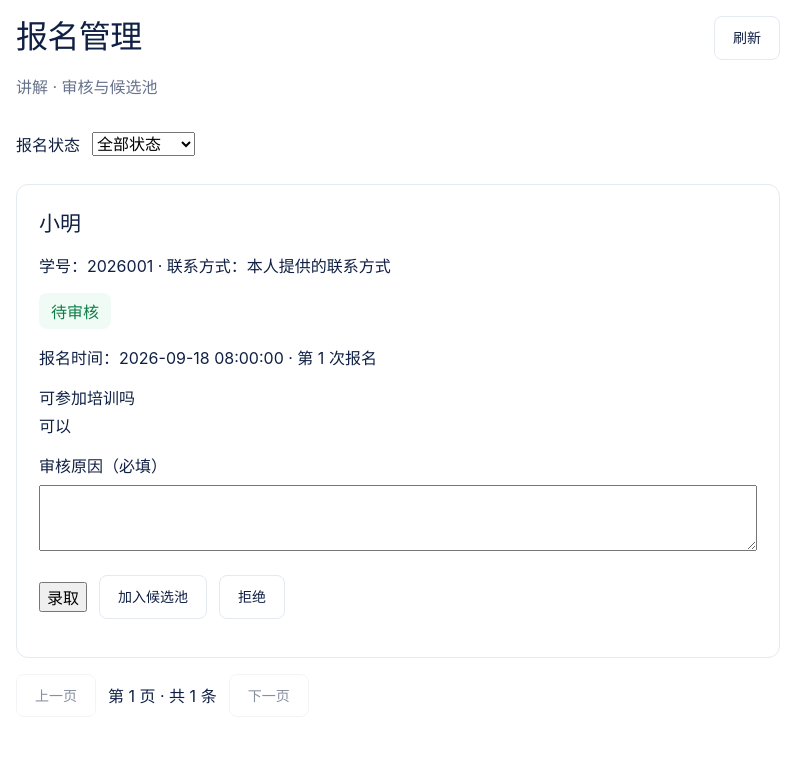
Test case: RegistrationManagementView › requires a trimmed reason and refreshes authoritative state after success
Click the button with test id "confirm" at coordinates (63, 597), box [39,582,87,612]
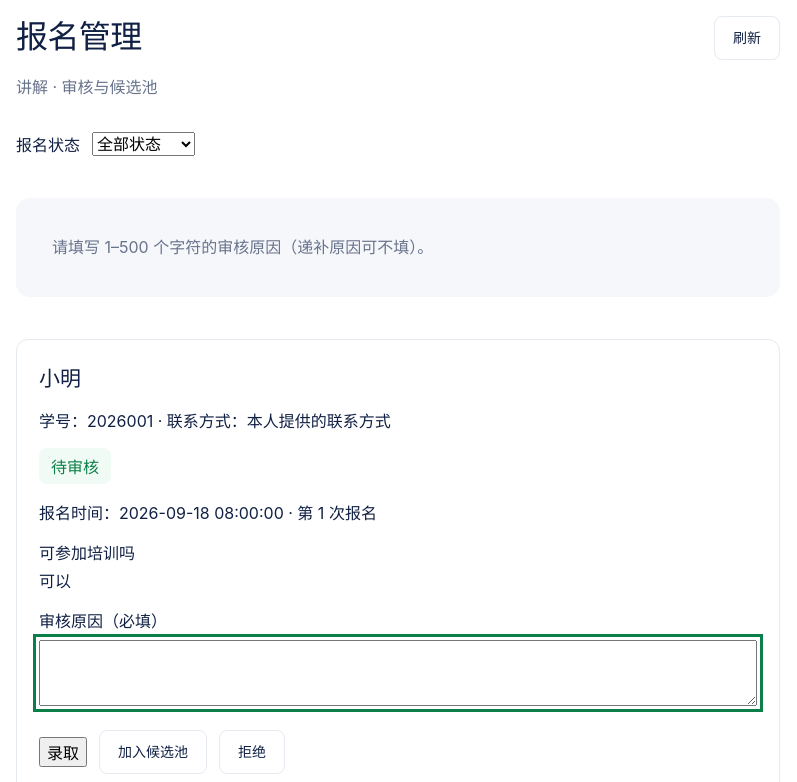
Expected: the message "请填写 1–500 个字符的审核原因（递补原因可不填）。" is shown, [16,198,780,297]
Type "  符合岗位要求  " into the text box labelled "审核原因（必填）" at coordinates (398, 673), box [39,640,757,706]
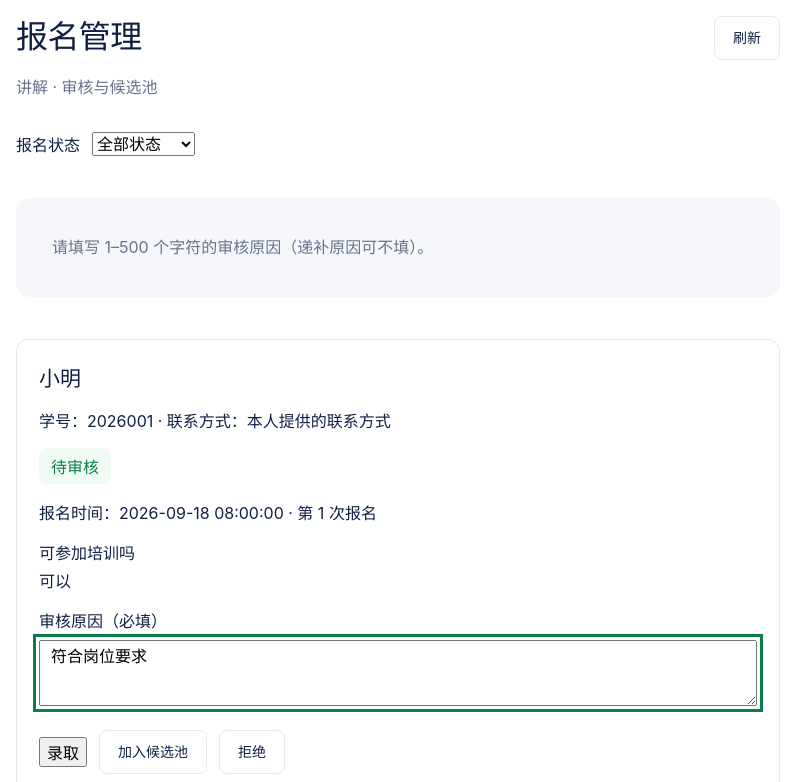
Click the button with test id "confirm" at coordinates (63, 752), box [39,737,87,767]
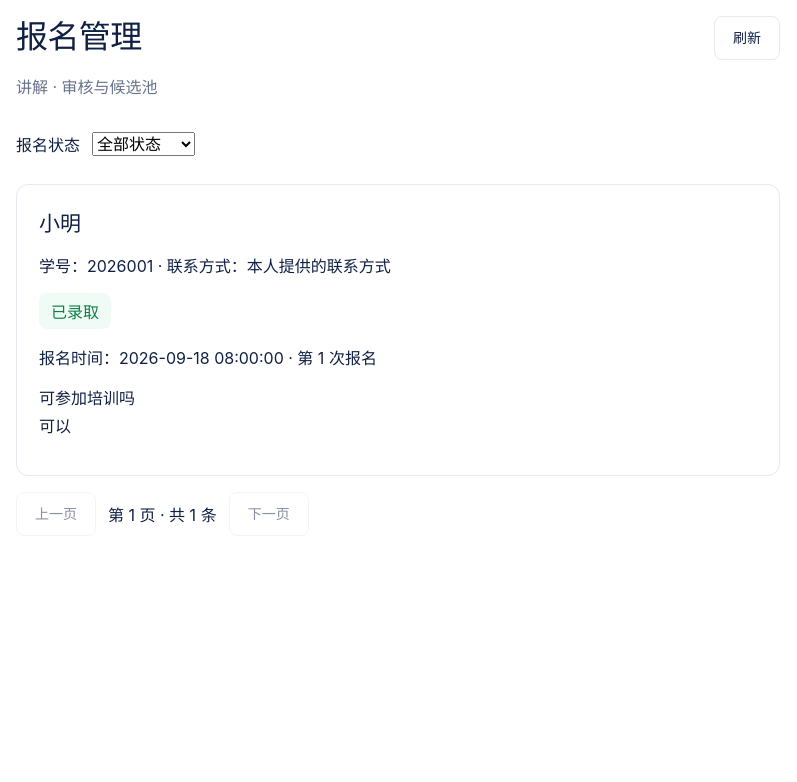
Expected: the text "已录取" is shown, [39,293,111,329]
